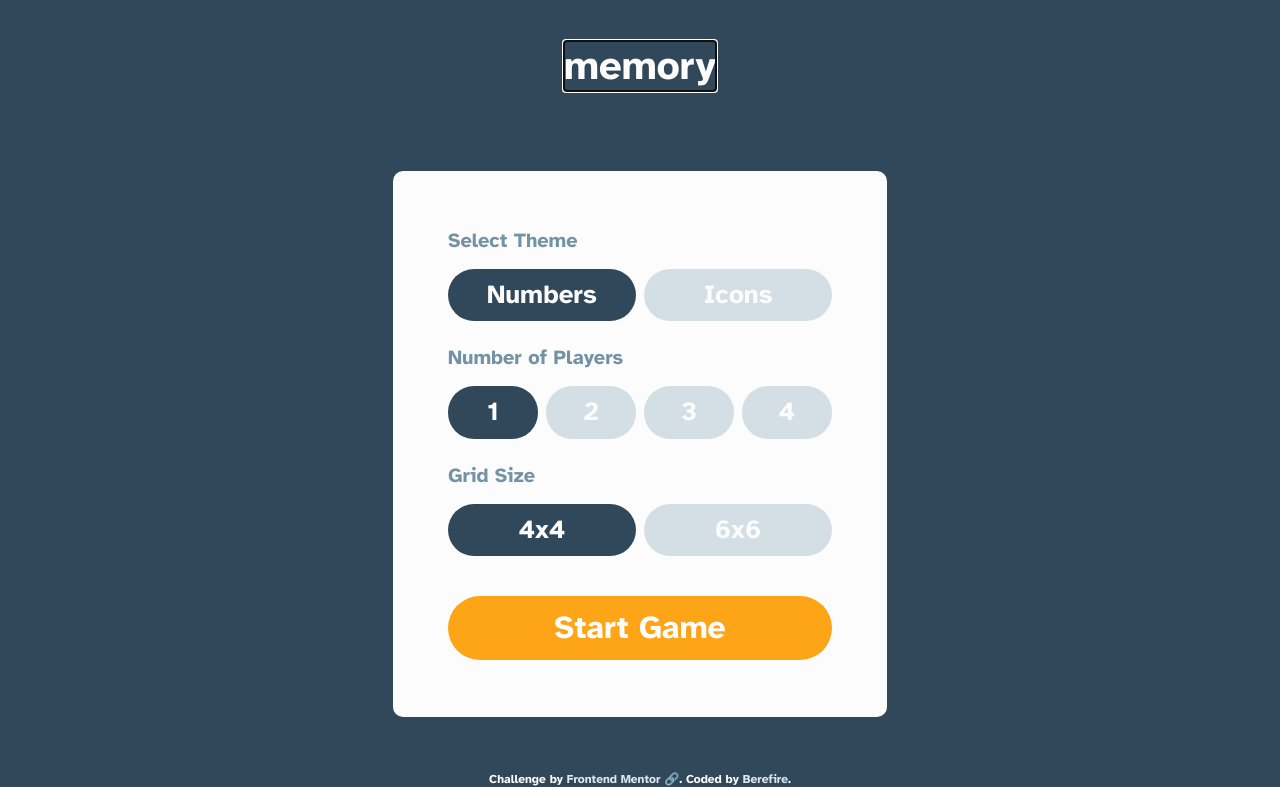
Test: App (integration, real pages) › starts a game showing exactly 3 players when playerCount 3 is selected
The width and height of the screenshot is (1280, 787).
Step 1. Click the radio button labelled "3" → [689, 413], box [644,386,734,439]
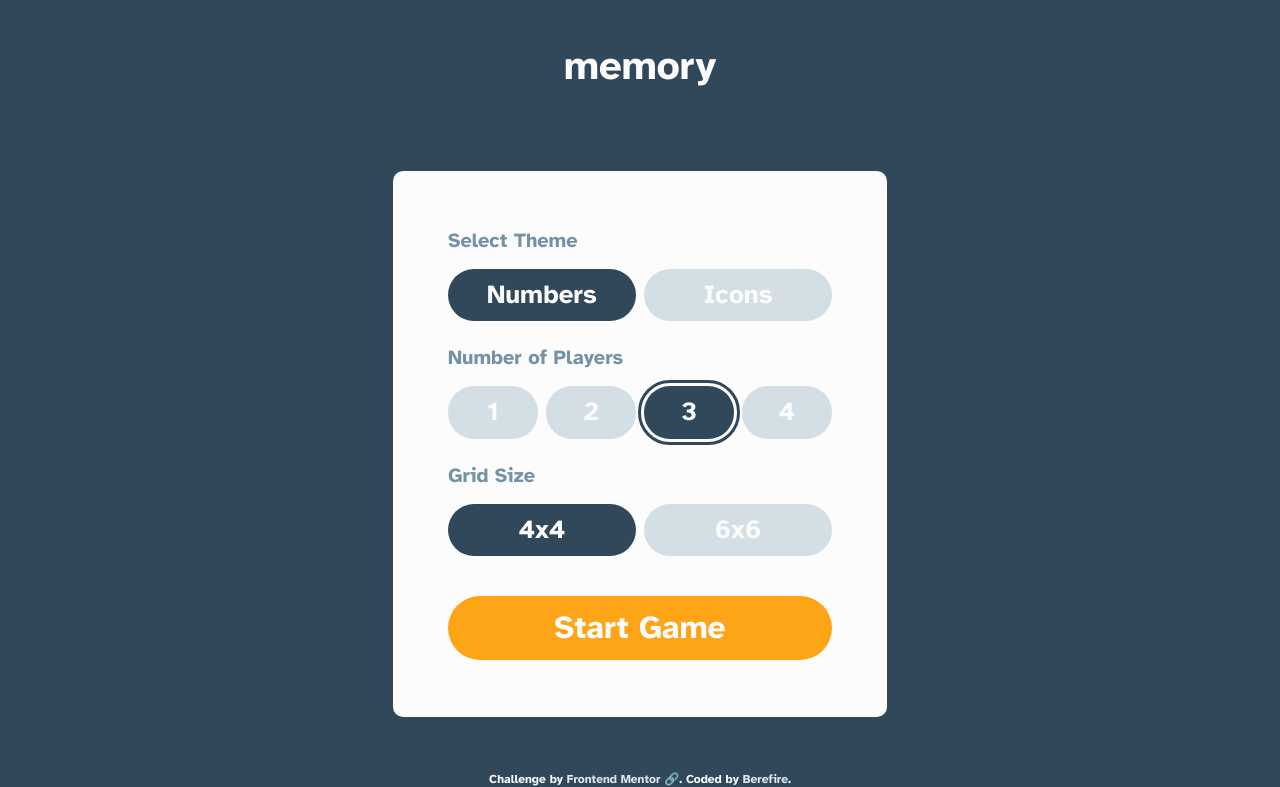
Step 2. Click the button "Start Game" → [640, 628], box [448,596,832,660]
(page scrolled)
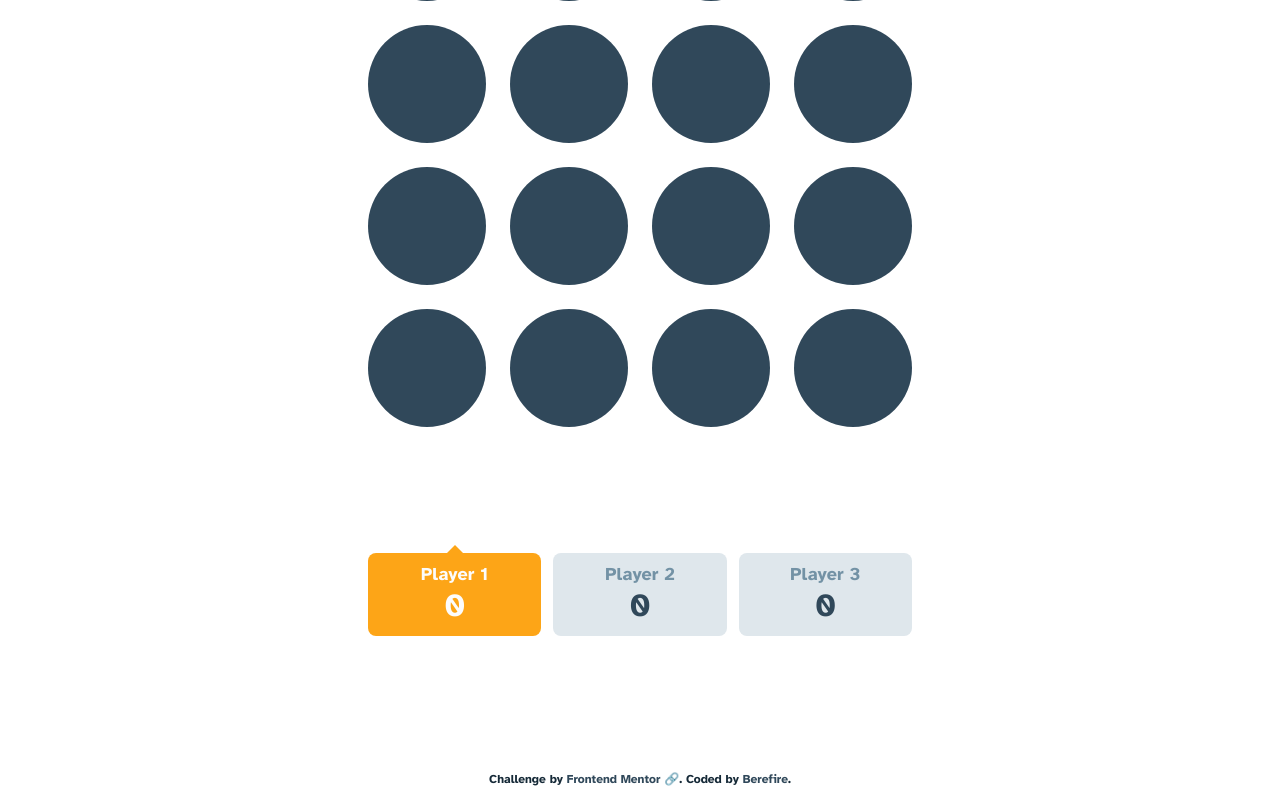
Expected: the text "Player 1" is shown, [421,563,488,585]
Expected: the text "Player 2" is shown, [605,563,675,585]
Expected: the text "Player 3" is shown, [790,563,860,585]
